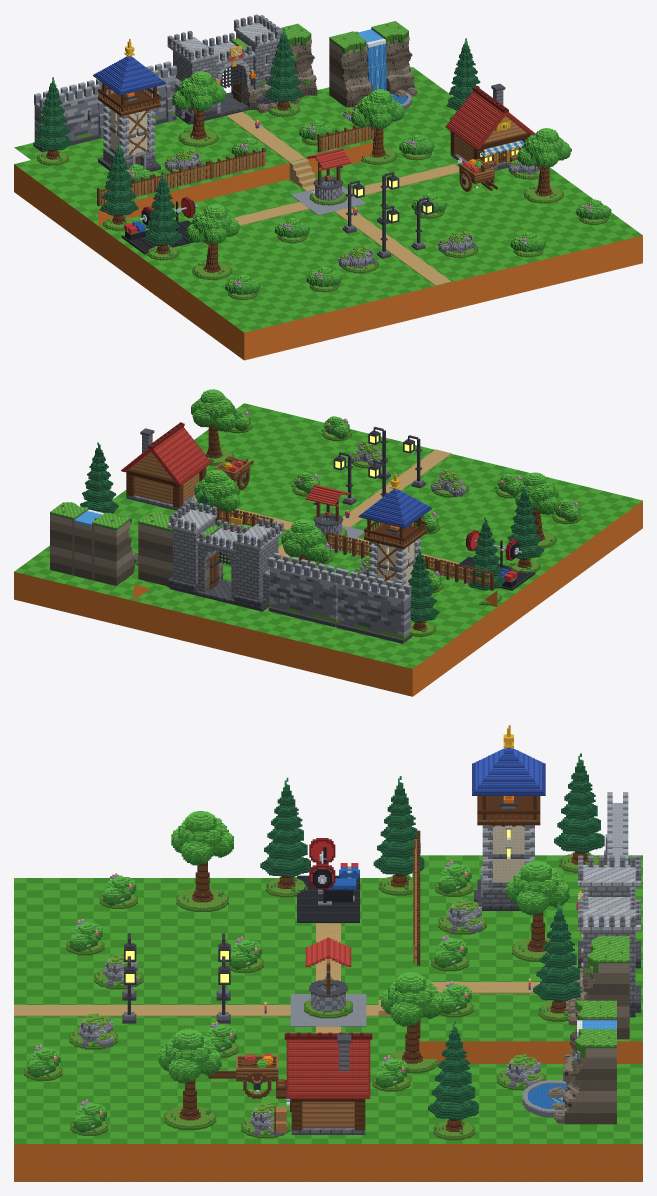
Rendered from StudMapGuide.glb.
3 renders of one model, top to bottom at view 1: azimuth 30°, elevation 25°; view 2: azimuth 150°, elevation 25°; view 3: azimuth 270°, elevation 25°, orthographic. The views are drawn at different scales.
Parts seen in each view (by area): view 1: GrassA, GrassB, GroundDirt, CastleGate1_1, Waterfall1_1, Watchtower1_1, TerraceGrassB, TerraceGrassA, Path, Shop1_1, TerraceDirt, Wall2_1 (+29 smaller); view 2: GrassB, GrassA, GroundDirt, CastleGate1_1, Waterfall1_1, Shop1_1, Watchtower1_1, Wall2_1, Wall1_1, Cliff1_1, TerraceGrassA, TerraceGrassB (+23 smaller); view 3: GrassA, GrassB, GroundDirt, TerraceGrassA, TerraceGrassB, Shop1_1, Watchtower1_1, Waterfall1_1, CastleGate1_1, Path, Gym1_1, Oak2_1 (+29 smaller).
Boxes of the visible parts, x1,y1,x2,y2 form: GrassA: [19, 67, 637, 332]; GrassB: [14, 70, 642, 330]; GroundDirt: [14, 164, 642, 360]; CastleGate1_1: [167, 14, 283, 124]; Waterfall1_1: [329, 21, 417, 109]; Watchtower1_1: [93, 39, 166, 171]; TerraceGrassB: [14, 95, 371, 204]; TerraceGrassA: [19, 95, 373, 209]; Path: [226, 111, 459, 285]; Shop1_1: [445, 83, 535, 170]; TerraceDirt: [98, 142, 372, 225]; Wall2_1: [33, 79, 109, 152]; GrassB: [19, 403, 637, 668]; GrassA: [14, 405, 642, 666]; GroundDirt: [14, 501, 642, 696]; CastleGate1_1: [167, 500, 283, 611]; Waterfall1_1: [50, 502, 135, 585]; Shop1_1: [121, 422, 211, 510]; Watchtower1_1: [358, 472, 431, 589]; Wall2_1: [336, 569, 411, 643]; Wall1_1: [268, 552, 343, 627]; Cliff1_1: [138, 511, 223, 591]; TerraceGrassA: [138, 523, 496, 650]; TerraceGrassB: [134, 524, 490, 652]; GrassA: [14, 878, 642, 1143]; GrassB: [14, 878, 642, 1143]; GroundDirt: [14, 1144, 642, 1181]; TerraceGrassA: [412, 855, 642, 1041]; TerraceGrassB: [412, 855, 642, 1041]; Shop1_1: [274, 1032, 372, 1134]; Watchtower1_1: [472, 725, 545, 910]; Waterfall1_1: [522, 1000, 616, 1124]; CastleGate1_1: [576, 855, 640, 1017]; Path: [14, 923, 539, 1033]; Gym1_1: [297, 838, 359, 922]; Oak2_1: [158, 1028, 221, 1129].
Bounding box in the file's own units: 301 × 124 × 300.
Materials: 28 (24 with a texture image).
